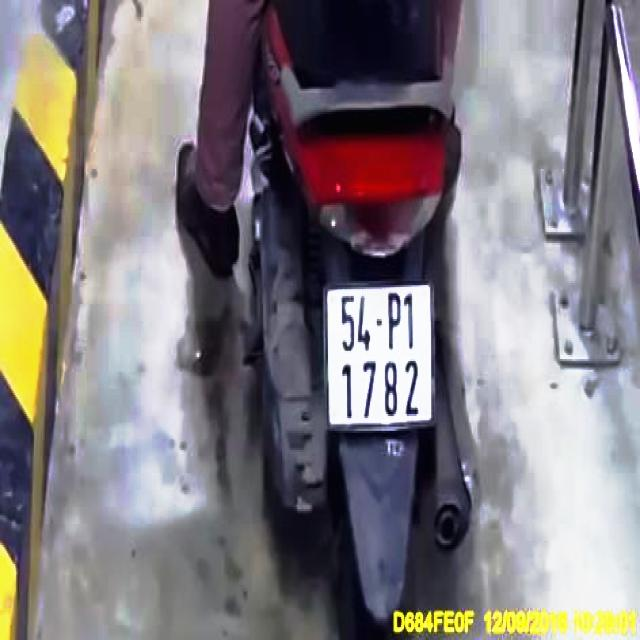license_plate: (327, 284, 436, 427)
